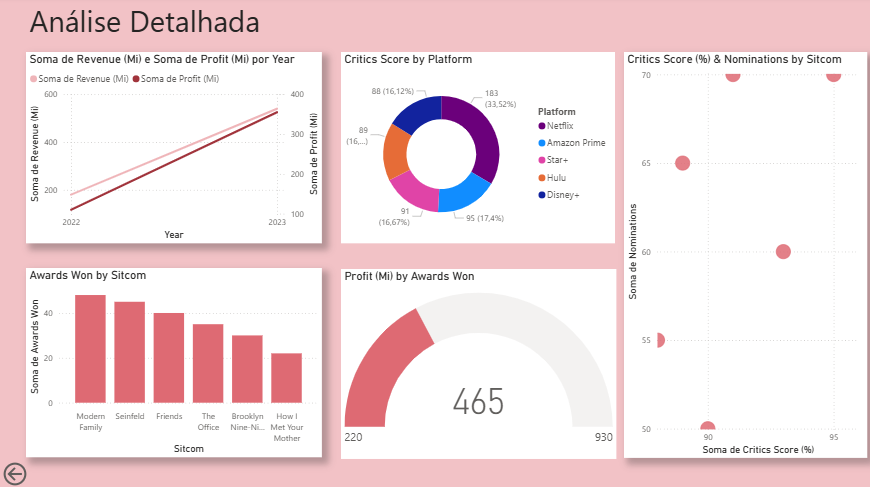

What the dashboard file says about the page in this screenshot:
{"tool":"powerbi","page":{"name":"Página 2","canvas":[1280,720],"ordinal":1},"visuals":[{"type":"lineChart","fields":{"Category":["Sheet1.Year"],"Y":["Sum(Sheet1.Revenue (Mi))"],"Y2":["Sum(Sheet1.Profit (Mi))"]},"box":[40,80,433.3,280],"z":0},{"type":"columnChart","title":"Awards Won by Sitcom","fields":{"Y":["Sum(Sheet1.Awards Won)"],"Category":["Sheet1.Sitcom"]},"box":[40,397.1,432.9,277.1],"z":1},{"type":"donutChart","title":" Critics Score by Platform","fields":{"Y":["Sum(Sheet1.Critics Score (%))"],"Category":["Sheet1.Platform"]},"box":[500,80,401.4,280],"z":2},{"type":"gauge","title":" Profit (Mi) by Awards Won","fields":{"Y":["Sum(Sheet1.Profit (Mi))"],"MinValue":["Sum(Sheet1.Awards Won)"]},"box":[500,397.5,402.5,277.5],"z":3},{"type":"scatterChart","title":" Critics Score (%) &  Nominations by  Sitcom","fields":{"X":["Sum(Sheet1.Critics Score (%))"],"Y":["Sum(Sheet1.Nominations)"],"Category":["Sheet1.Sitcom"]},"box":[914.3,80,355.7,594.3],"z":4},{"type":"textbox","box":[40,0,382.9,68.6],"z":5},{"type":"actionButton","box":[1.5,676.1,74.6,43.9],"z":6}]}

Visuals, with their boxes in screenshot pixels (x1, y1, x2, y2), scaled from the page's 1280x720 canvas onto the 870x487 screenshot:
lineChart - Sheet1.Year x Sum(Sheet1.Revenue (Mi)): box(27, 54, 322, 244)
"Awards Won by Sitcom" columnChart: box(27, 269, 321, 456)
" Critics Score by Platform" donutChart: box(340, 54, 613, 244)
" Profit (Mi) by Awards Won" gauge: box(340, 269, 613, 457)
" Critics Score (%) &  Nominations by  Sitcom" scatterChart: box(621, 54, 863, 456)
textbox: box(27, 0, 287, 46)
actionButton: box(1, 457, 52, 486)
